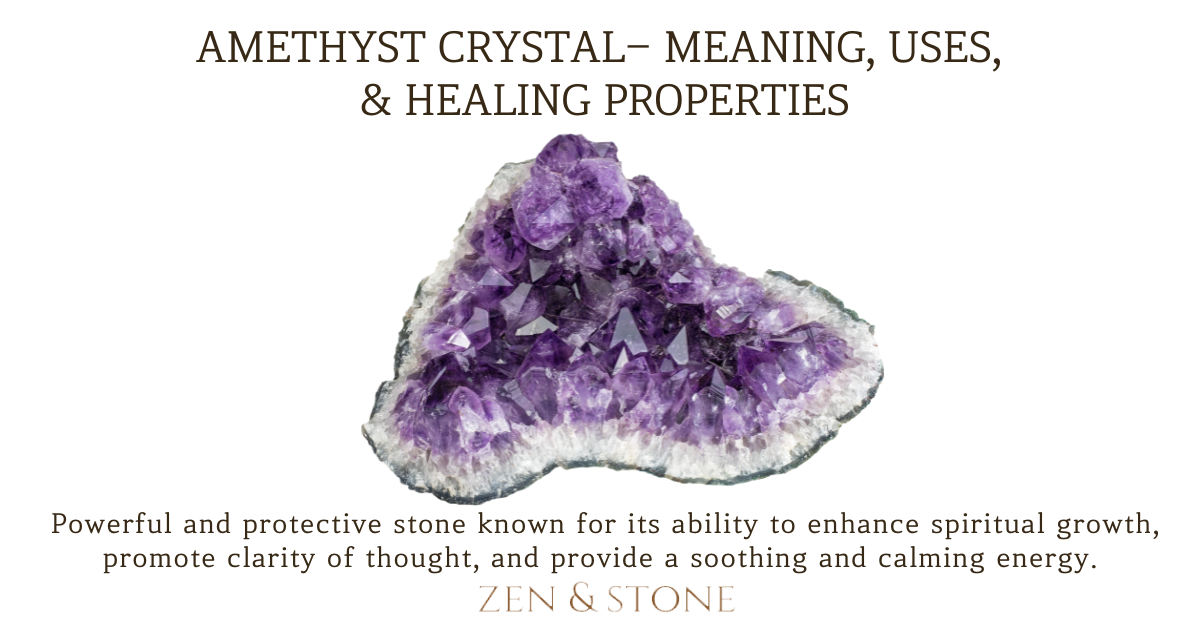Amethyst: (358, 131, 888, 508)
